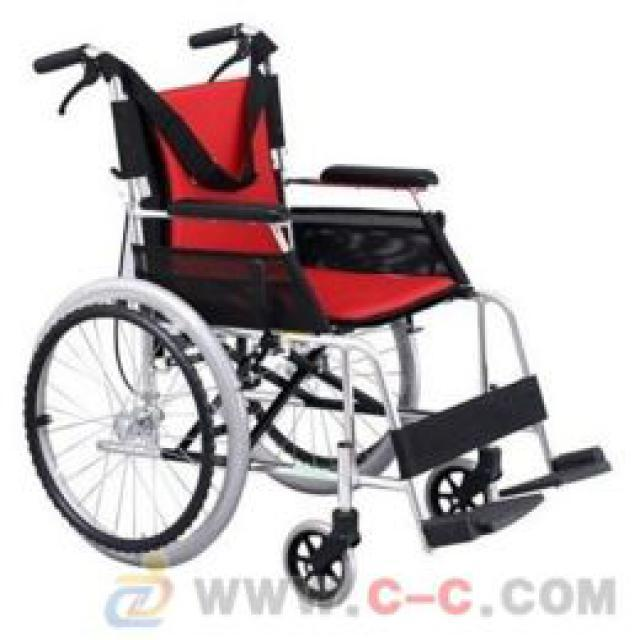wheelchairs: (23, 25, 611, 608)
